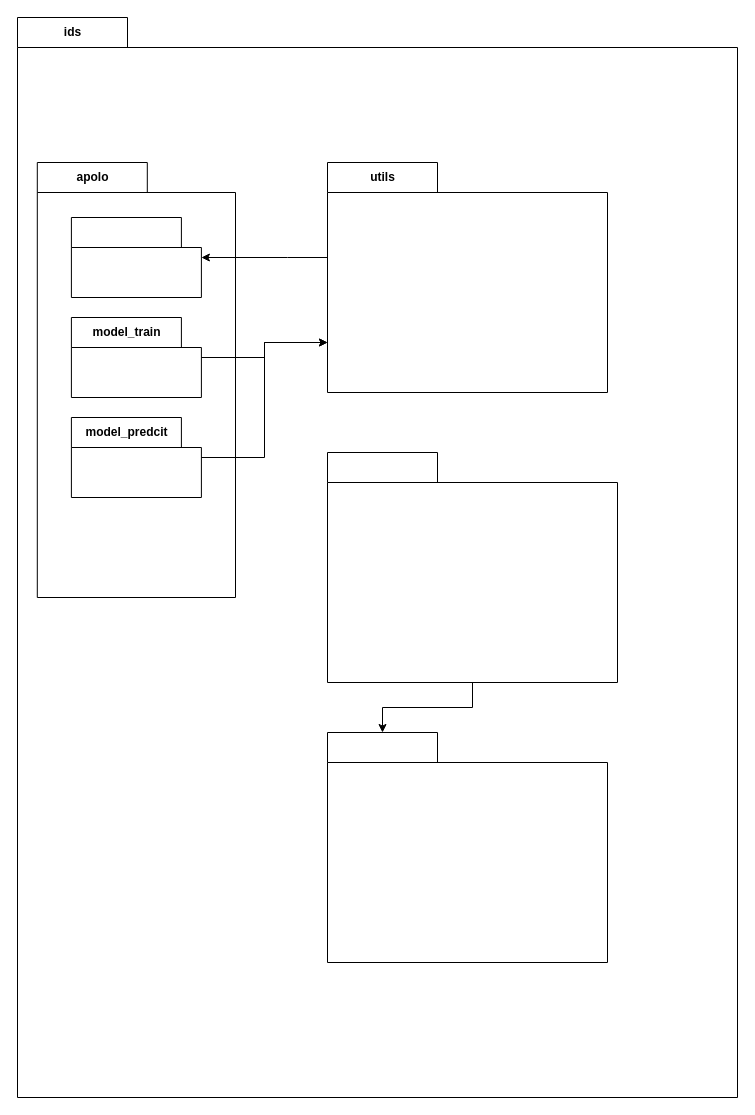
Some shapes in this 755 by 1115 pixel diagram are drawn without their labels. Here are the shapes that lost their labels. From the top down, the centre of each, then its label:
At pixel 135 257: "preprocesing".
At pixel 472 567: "storaged".
At pixel 467 847: "services".
